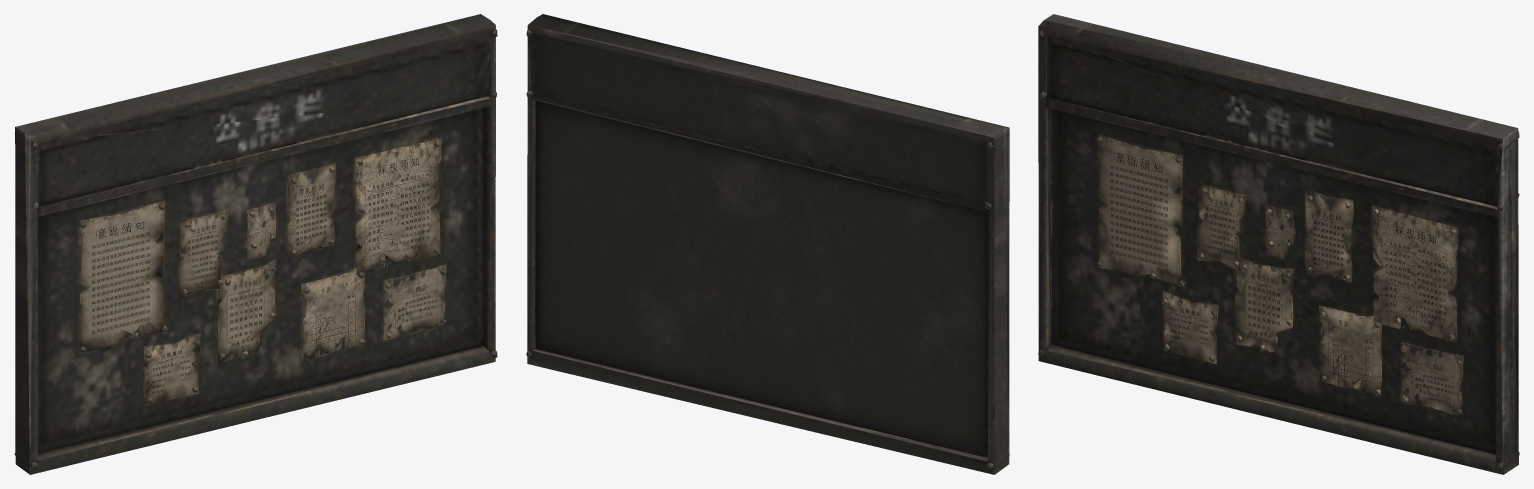
Rendered from level3 sign2.fbx.
The picture shows the model from 3 angles, left to right: view 1: azimuth 30°, elevation 25°; view 2: azimuth 150°, elevation 25°; view 3: azimuth 330°, elevation 25°; orthographic projection.
Visible parts, largest first — view 1: mesh_node; view 2: mesh_node; view 3: mesh_node.
Part boxes in pixels (x1,y1,x2,y2): mesh_node: (14, 14, 497, 474); mesh_node: (526, 14, 1009, 474); mesh_node: (1038, 14, 1519, 474).
Bounding box in the file's own units: 100 × 69.73 × 6.96.
1 material, 1 textured.
